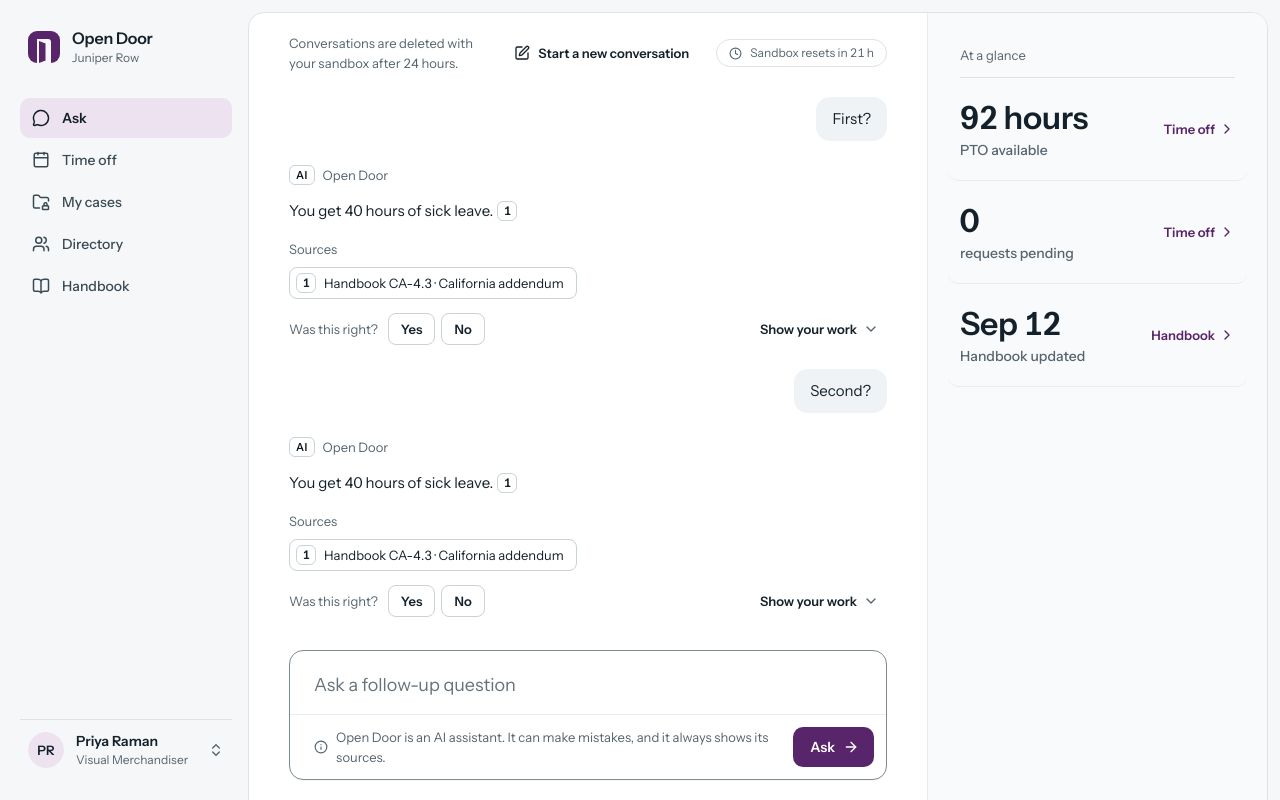
Scenario: what redraws the earlier turns › leaves them alone when a source panel opens and closes
Step 1. Click the button named "Source 1:" → (507, 211), box x1=497 y1=201 x2=517 y2=221
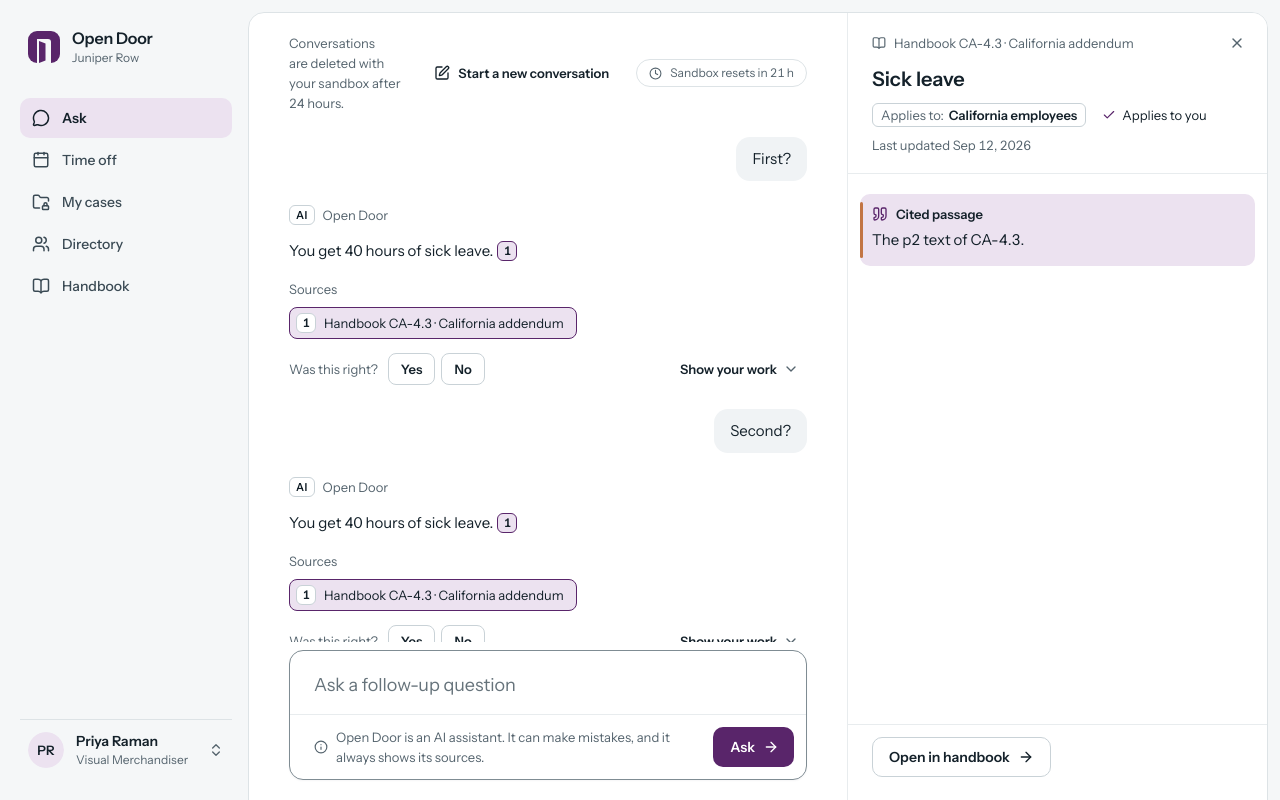
expect the button named "Source 1:" is expanded: met
Step 2. Click the button named "Source 1:" → (507, 251), box x1=497 y1=241 x2=517 y2=261
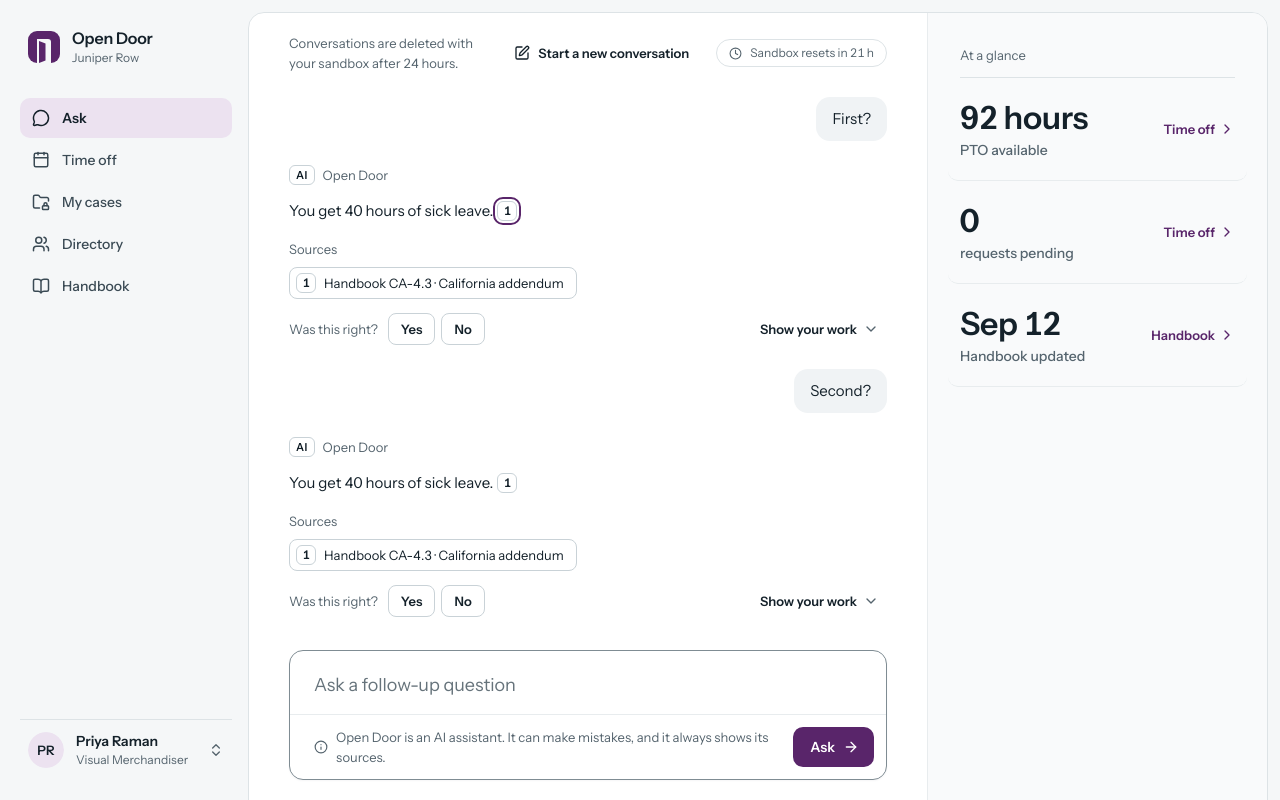
expect the button named "Source 1:" is collapsed: met, box x1=497 y1=201 x2=517 y2=221
